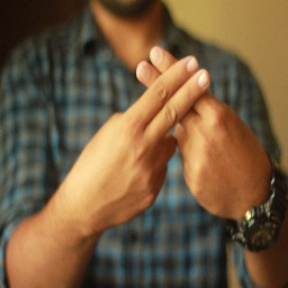F: (114, 37, 234, 165)
